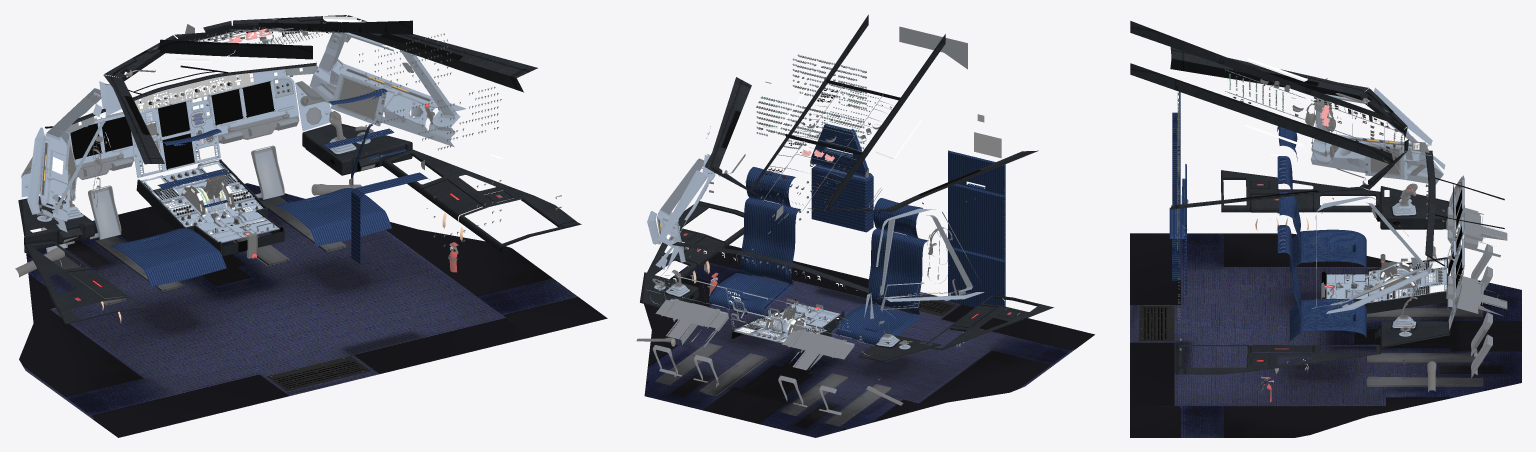
3 views of the same model, side by side, from view 1: azimuth 30°, elevation 25°; view 2: azimuth 150°, elevation 25°; view 3: azimuth 270°, elevation 25° (orthographic). The views are drawn at different scales.
Parts seen in each view (by area): view 1: A320; view 2: A320; view 3: A320.
Part boxes in pixels (box(x1,y1,x2,y2)): A320: box(15, 15, 607, 437); A320: box(636, 14, 1094, 437); A320: box(1130, 21, 1521, 437).
Size of the model in its own units: 3.14 by 2.11 by 2.57.
21 materials, 18 textured.
